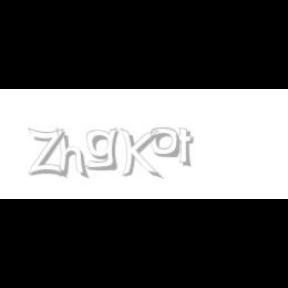K: (120, 128, 160, 180)
Z: (29, 128, 66, 178)
g: (86, 128, 122, 171)
h: (55, 128, 90, 180)
o: (150, 128, 180, 158)
t: (176, 128, 198, 168)
